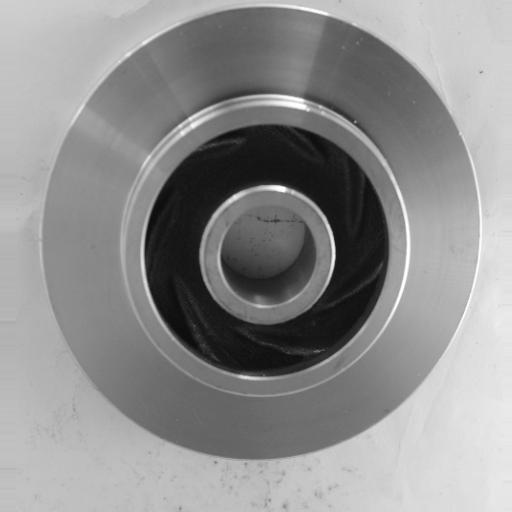polished_casting: (45, 6, 482, 463)
